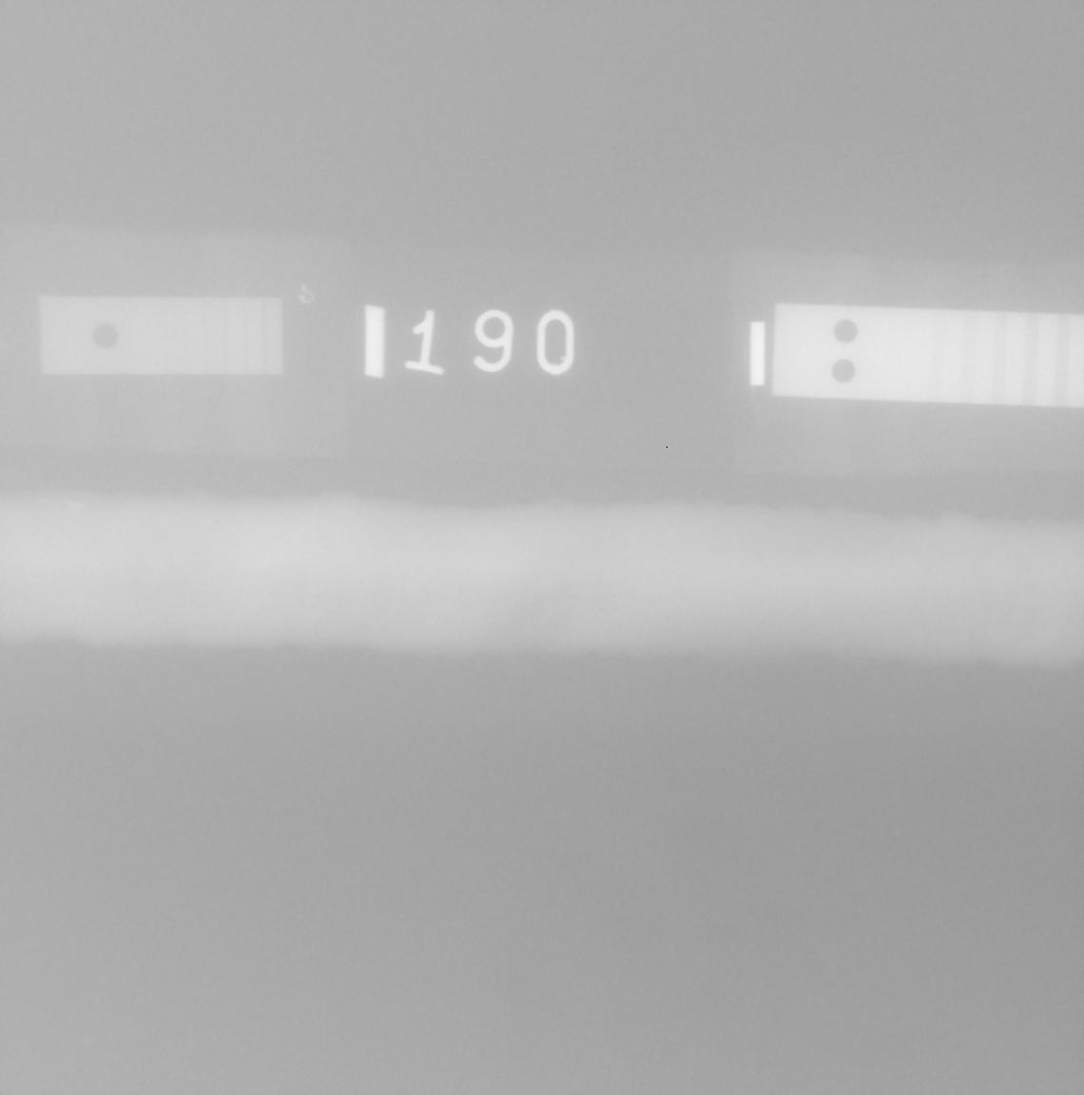Reference Standard 1: (40, 297, 284, 376)
